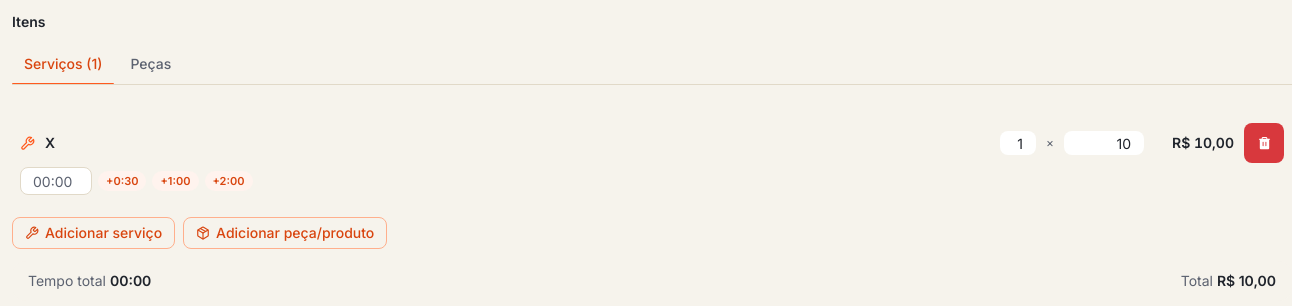
Test: ItemsEditor › sums repeated preset clicks instead of overwriting the previous value
Click the button "+0:30" at [122, 181], box [98,171,146,191]
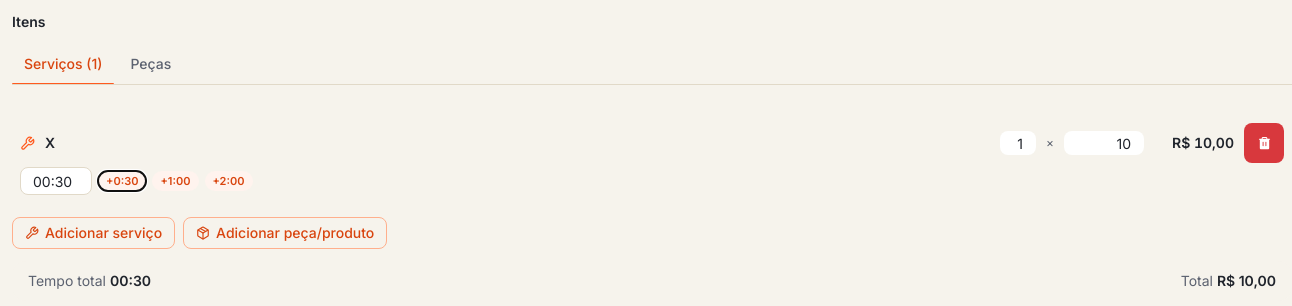
Click the button "+0:30" at [122, 181], box [98,171,146,191]
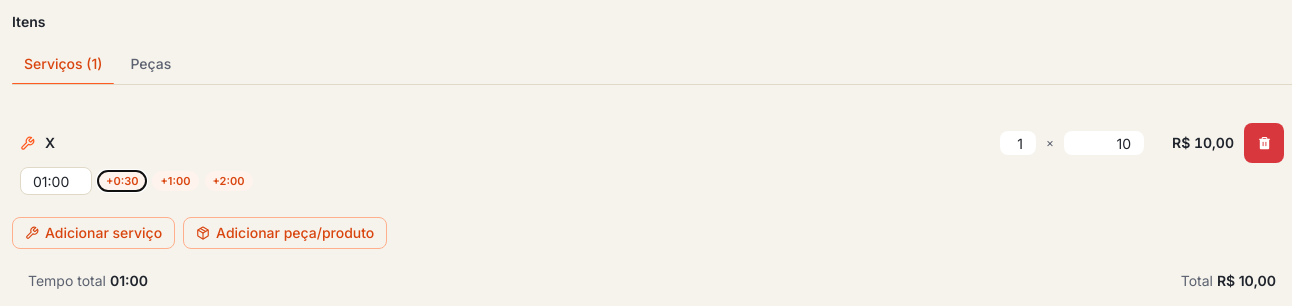
expect the field showing "01:00" is shown: met, box [20,167,92,195]
